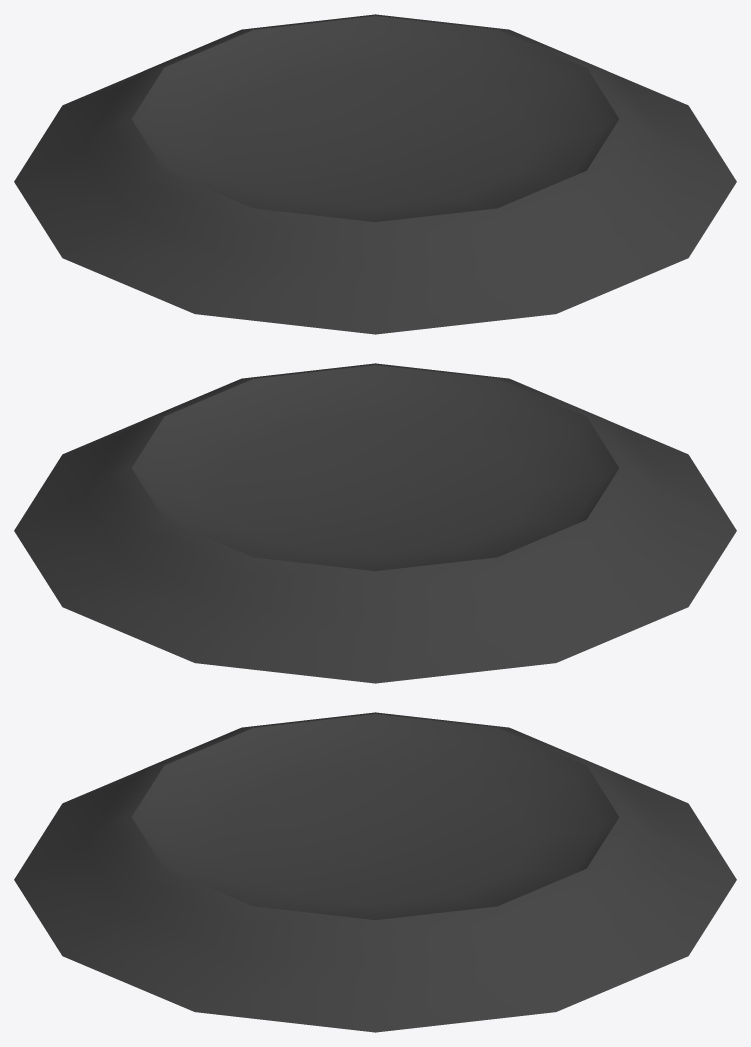
The model's file is cratere.glb.
3 renders of one model, top to bottom at view 1: azimuth 30°, elevation 25°; view 2: azimuth 150°, elevation 25°; view 3: azimuth 270°, elevation 25°, orthographic.
Parts seen in each view (by area): view 1: httpssteamusercontentaakamaihdnetugc9304347889126006306E91C6; view 2: httpssteamusercontentaakamaihdnetugc9304347889126006306E91C6; view 3: httpssteamusercontentaakamaihdnetugc9304347889126006306E91C6.
Part boxes in pixels (box(x1,y1,x2,y2)): httpssteamusercontentaakamaihdnetugc9304347889126006306E91C6: box(14, 14, 736, 334); httpssteamusercontentaakamaihdnetugc9304347889126006306E91C6: box(14, 363, 736, 683); httpssteamusercontentaakamaihdnetugc9304347889126006306E91C6: box(14, 712, 736, 1032).
Bounding box in the file's own units: 1.3 × 0.1243 × 1.3.
Materials: 1 (1 with a texture image).
